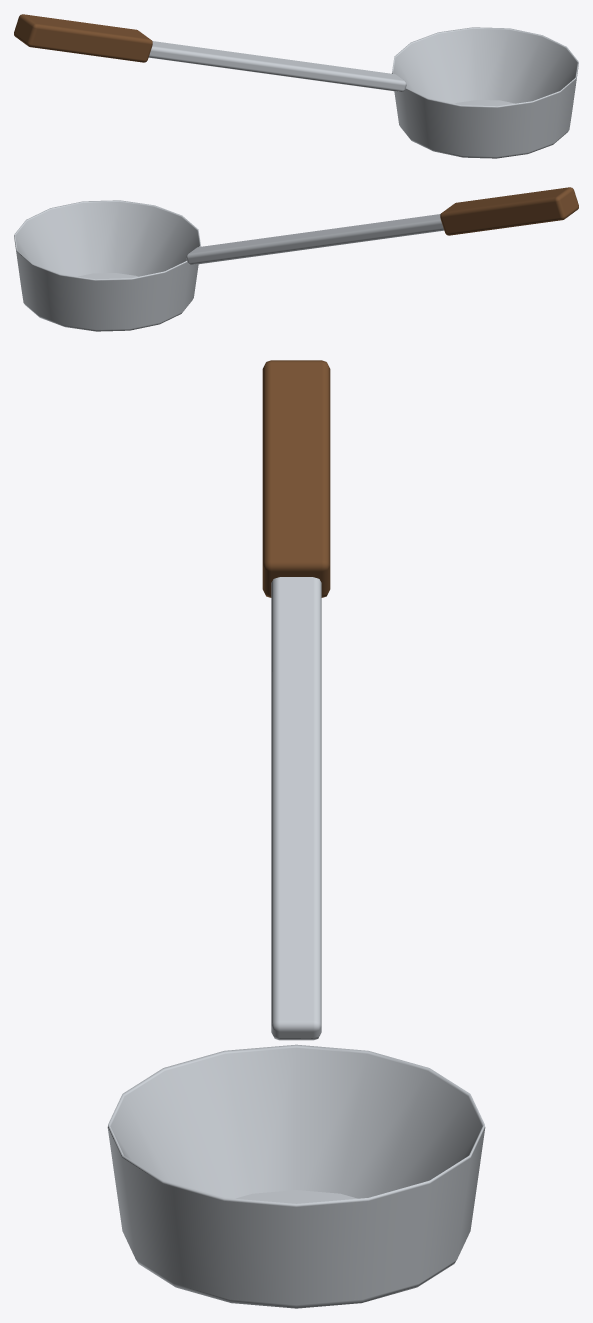
Rendered from Ladle.glb.
3 views of the same model, one above another, from view 1: azimuth 30°, elevation 25°; view 2: azimuth 150°, elevation 25°; view 3: azimuth 270°, elevation 25° (orthographic). The views are drawn at different scales.
Parts seen in each view (by area): view 1: Ladle; view 2: Ladle; view 3: Ladle.
Boxes of the visible parts, bbox=[...] form: Ladle: bbox=[14, 14, 578, 158]; Ladle: bbox=[14, 187, 578, 331]; Ladle: bbox=[107, 360, 485, 1308].
Bounding box in the file's own units: 0.299 × 0.1169 × 0.0895.
